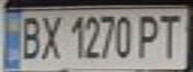0: (115, 12, 136, 60)
1: (63, 12, 84, 60)
2: (81, 11, 100, 61)
7: (100, 11, 118, 60)
B: (15, 12, 45, 61)
P: (133, 11, 163, 60)
T: (154, 11, 187, 60)
X: (36, 12, 66, 61)
